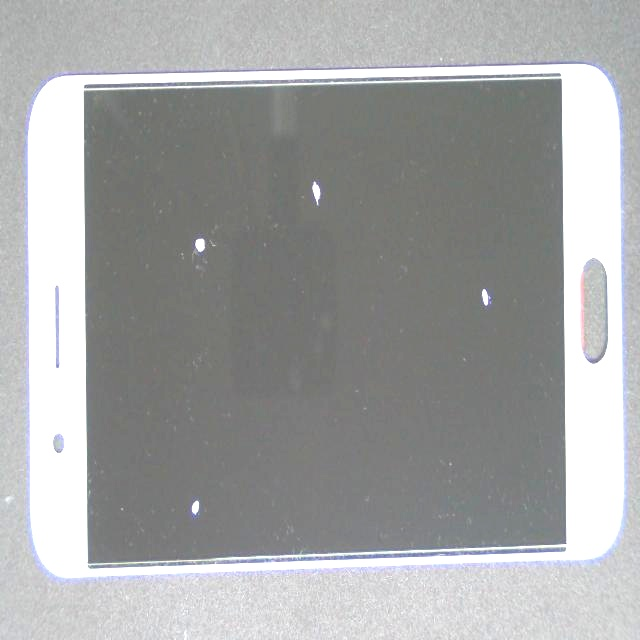stain: (248, 97, 640, 393), (111, 199, 289, 640), (179, 111, 494, 273), (119, 120, 307, 339)
